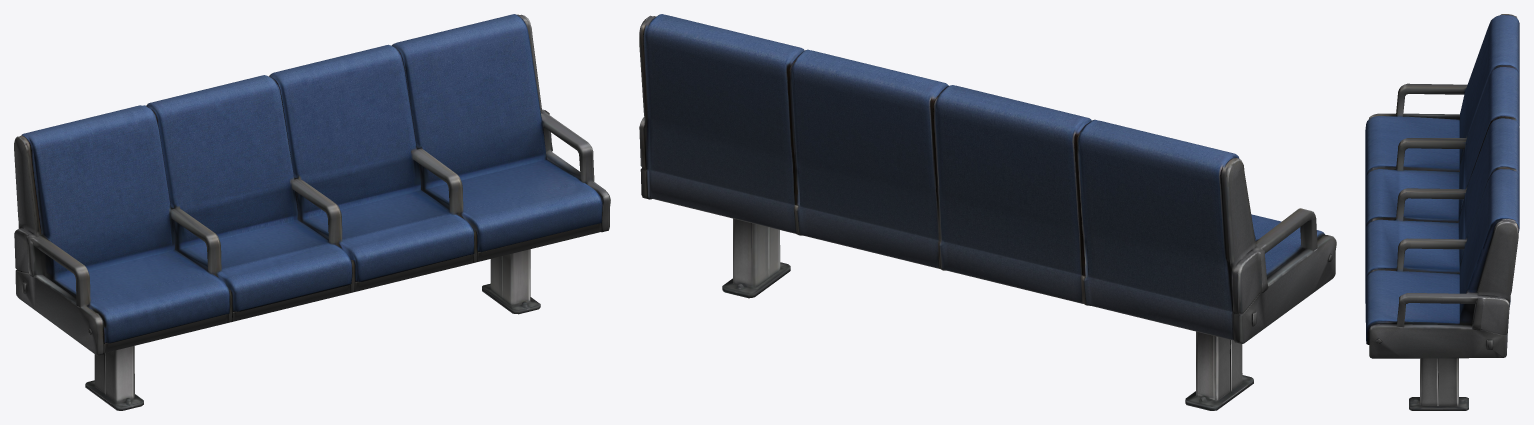
Rendered from BlueBench.fbx.
3 views of the same model, side by side, from view 1: azimuth 30°, elevation 25°; view 2: azimuth 150°, elevation 25°; view 3: azimuth 270°, elevation 25° (orthographic). The views are drawn at different scales.
Visible parts, largest first — view 1: tripo_node_1dfc4fce-a8fb-42cd-88be-60a1131e5076; view 2: tripo_node_1dfc4fce-a8fb-42cd-88be-60a1131e5076; view 3: tripo_node_1dfc4fce-a8fb-42cd-88be-60a1131e5076.
Part boxes in pixels (left/top/right/bottom): tripo_node_1dfc4fce-a8fb-42cd-88be-60a1131e5076: left=14, top=14, right=610, bottom=410; tripo_node_1dfc4fce-a8fb-42cd-88be-60a1131e5076: left=639, top=14, right=1336, bottom=410; tripo_node_1dfc4fce-a8fb-42cd-88be-60a1131e5076: left=1365, top=14, right=1519, bottom=410.
Bounding box in the file's own units: 99.8 × 44.73 × 30.27.
1 material, 1 textured.
